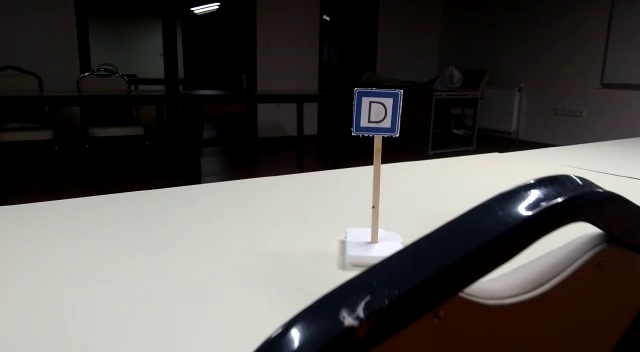durak: (351, 89, 402, 136)
